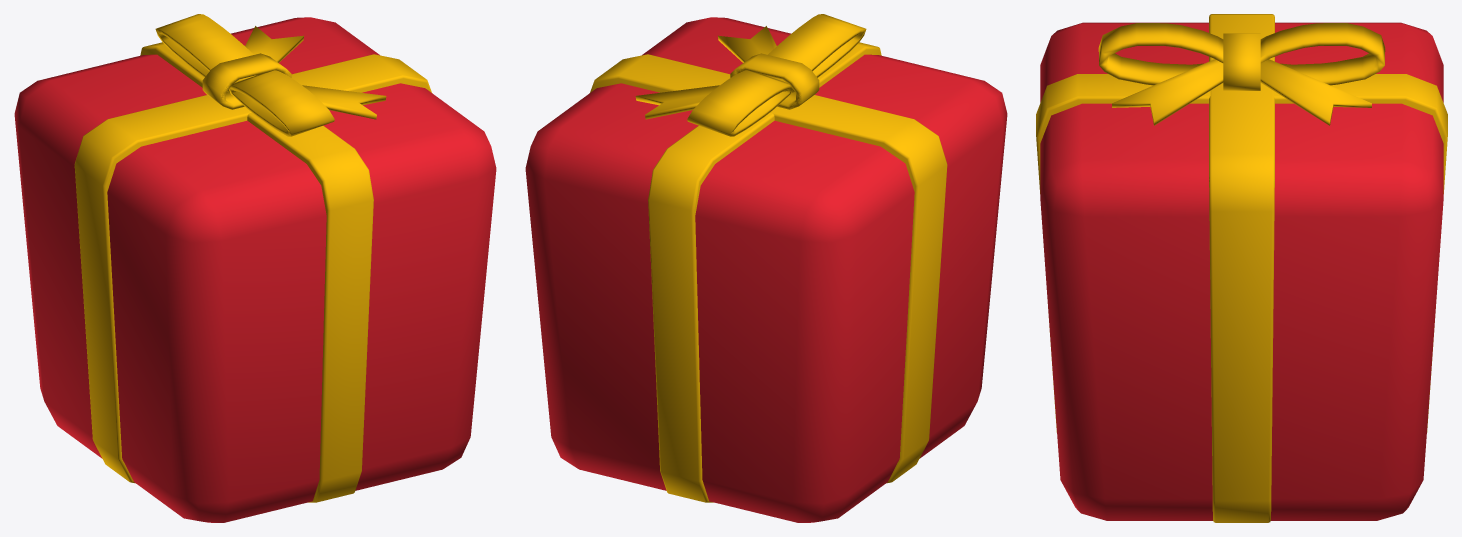
Rendered from ribbonBox.glb.
3 renders of one model, left to right at view 1: azimuth 30°, elevation 25°; view 2: azimuth 150°, elevation 25°; view 3: azimuth 270°, elevation 25°, orthographic. The views are drawn at different scales.
Parts seen in each view (by area): view 1: Main, Sub; view 2: Main, Sub; view 3: Main, Sub.
Boxes of the visible parts, box(x1,y1,x2,y2) form: Main: box(14, 17, 496, 522); Sub: box(74, 14, 431, 502); Main: box(525, 17, 1007, 522); Sub: box(590, 14, 947, 502); Main: box(1040, 22, 1443, 520); Sub: box(1036, 14, 1447, 522).
Size of the model in its own units: 0.7744 by 0.8797 by 0.7744.
